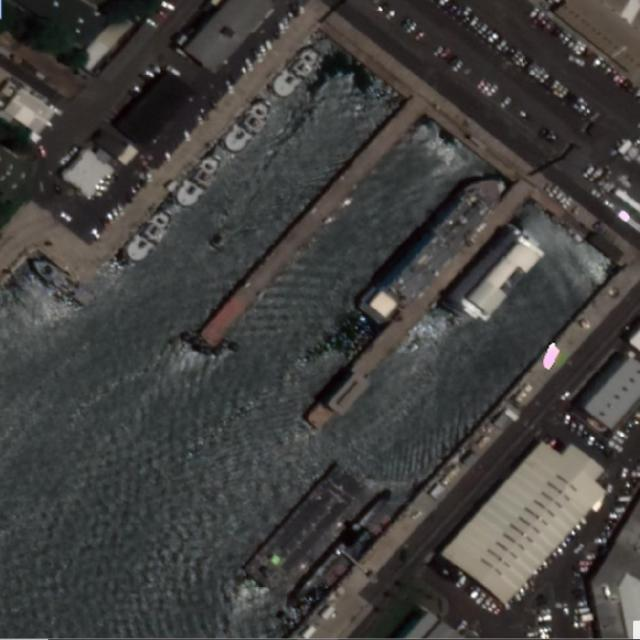Cargo: (360, 163, 509, 330)
Dock: (198, 95, 425, 348), (297, 188, 531, 430)
Hovercraft: (266, 38, 328, 104), (218, 92, 277, 156), (171, 149, 227, 211), (121, 206, 178, 266)
Other Ship: (30, 255, 100, 312)
